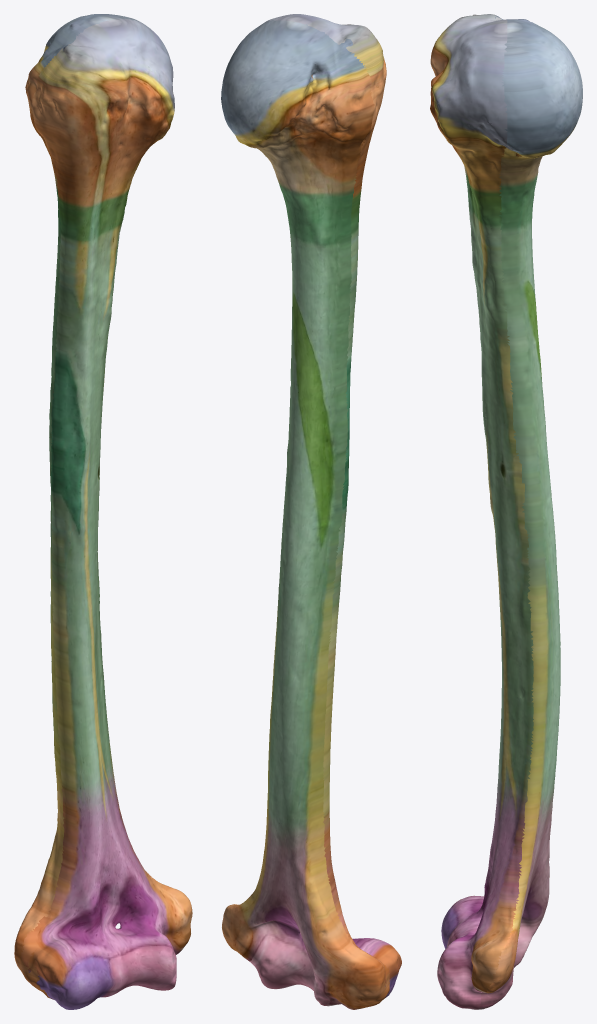
The model's file is kosc-ramienna.glb.
3 renders of one model, left to right at view 1: azimuth 30°, elevation 25°; view 2: azimuth 150°, elevation 25°; view 3: azimuth 270°, elevation 25°, orthographic. The views are drawn at different scales.
Size of the model in its own units: 0.0526 by 0.2918 by 0.042.
Materials: 2 (1 with a texture image).
